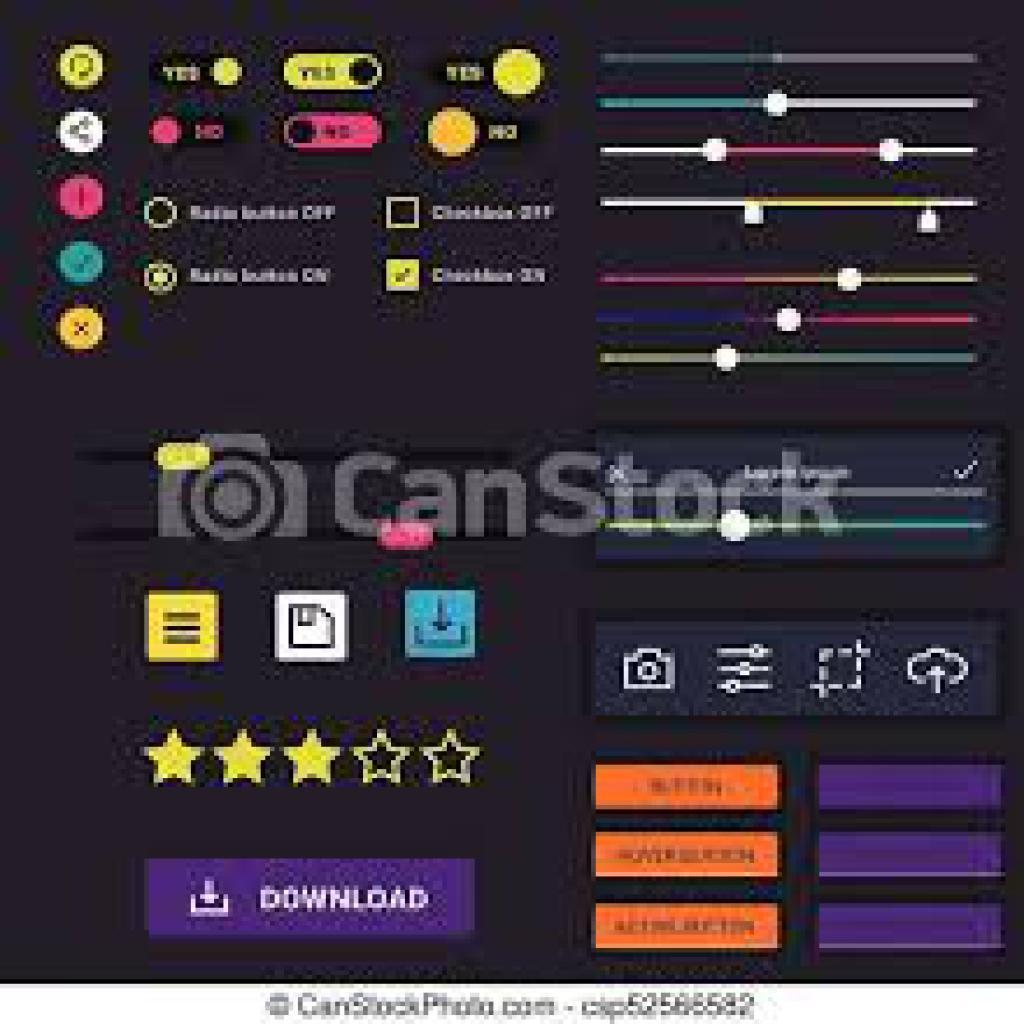button: (149, 861, 476, 934)
checkbox: (385, 259, 421, 294), (385, 195, 421, 230)
icon: (811, 639, 876, 703), (905, 640, 973, 695), (617, 643, 683, 699), (413, 594, 472, 655), (718, 640, 777, 698), (282, 601, 341, 655), (161, 607, 207, 649)
radio: (143, 259, 182, 297), (142, 198, 181, 232)
slider: (591, 340, 993, 392), (604, 187, 985, 238), (597, 296, 990, 342), (604, 255, 979, 302), (601, 133, 975, 174), (597, 82, 981, 120), (608, 511, 995, 544)
switch: (437, 50, 546, 98), (426, 105, 531, 154), (282, 49, 383, 94), (148, 51, 245, 91), (283, 112, 380, 149), (151, 113, 239, 151)
